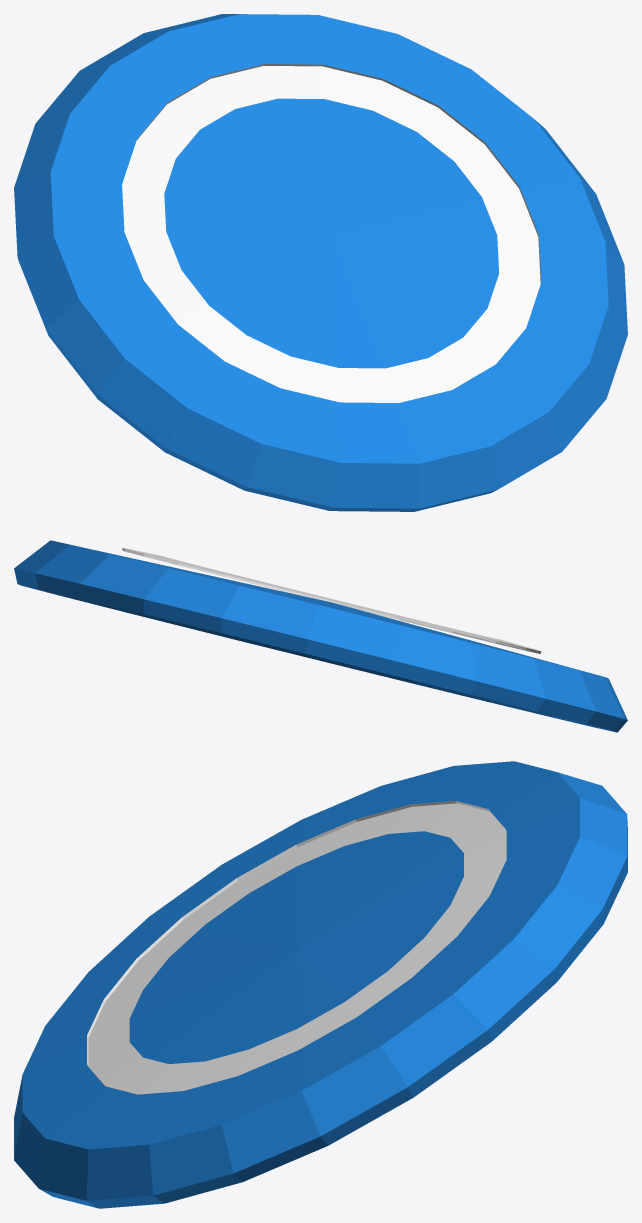
File: frisbee.glb
The picture shows the model from 3 angles, top to bottom: view 1: azimuth 30°, elevation 25°; view 2: azimuth 150°, elevation 25°; view 3: azimuth 270°, elevation 25°; orthographic projection. The views are drawn at different scales.
Parts seen in each view (by area): view 1: frisbee; view 2: frisbee; view 3: frisbee.
Part boxes in pixels (x1,y1,x2,y2): frisbee: [14, 14, 627, 511]; frisbee: [14, 540, 627, 732]; frisbee: [14, 761, 627, 1208].
Bounding box in the file's own units: 0.44 × 0.2277 × 0.3827.
